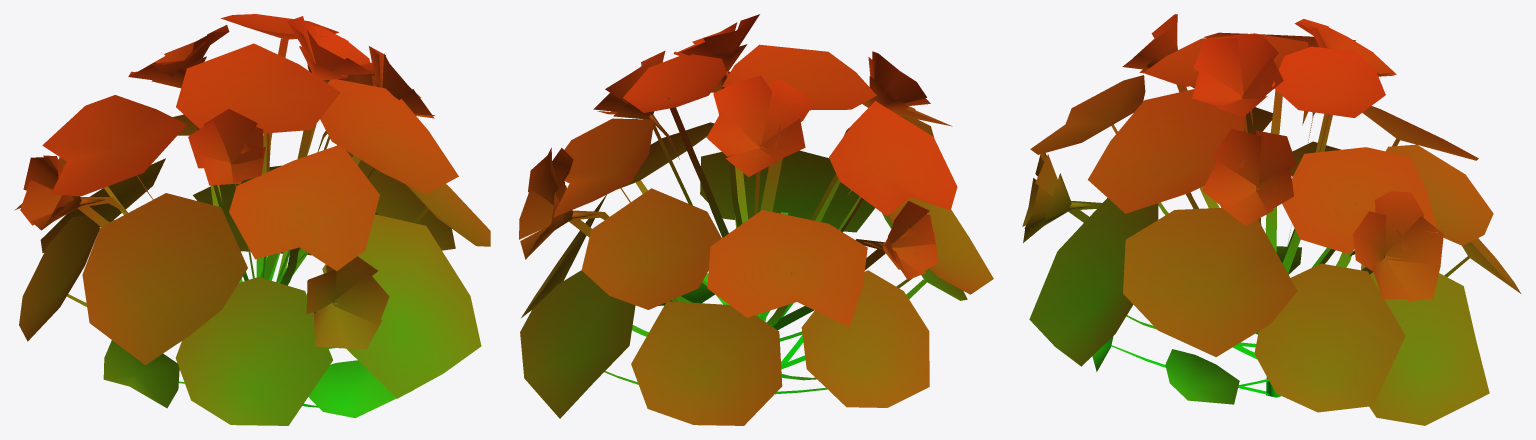
File: Var6_LOD0.fbx
3 views of the same model, side by side, from view 1: azimuth 30°, elevation 25°; view 2: azimuth 150°, elevation 25°; view 3: azimuth 270°, elevation 25° (orthographic). The views are drawn at different scales.
Parts seen in each view (by area): view 1: _5c95_Var6_LOD0; view 2: _5c95_Var6_LOD0; view 3: _5c95_Var6_LOD0.
Boxes of the visible parts, <box> form: _5c95_Var6_LOD0: <box>14,14,490,425</box>; _5c95_Var6_LOD0: <box>519,14,993,425</box>; _5c95_Var6_LOD0: <box>1022,14,1520,425</box>.
Size of the model in its own units: 27.09 by 23.61 by 28.76.
